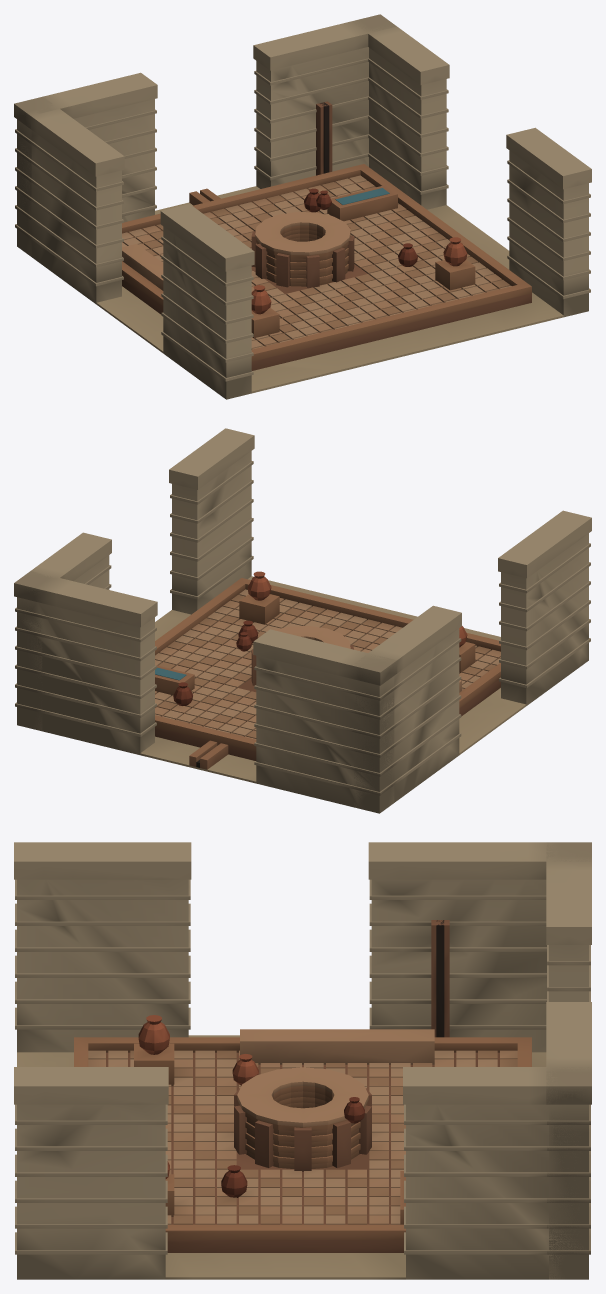
Rendered from dk-g-well.glb.
The picture shows the model from 3 angles, top to bottom: view 1: azimuth 30°, elevation 25°; view 2: azimuth 150°, elevation 25°; view 3: azimuth 270°, elevation 25°; orthographic projection. The views are drawn at different scales.
Visible parts, largest first — view 1: p2_pots and houses, p0_platform, p1_well shaft; view 2: p2_pots and houses, p0_platform, p1_well shaft; view 3: p2_pots and houses, p0_platform, p1_well shaft.
Part boxes in pixels (x1,y1,x2,y2): p2_pots and houses: (14,14,591,399); p0_platform: (96,164,563,393); p1_well shaft: (251,212,354,288); p2_pots and houses: (14,428,591,813); p0_platform: (140,576,526,783); p1_well shaft: (251,626,353,685); p2_pots and houses: (14,842,591,1279); p0_platform: (17,1035,546,1279); p1_well shaft: (234,1067,371,1171).
Size of the model in its own units: 10.1 by 3.75 by 10.1.
